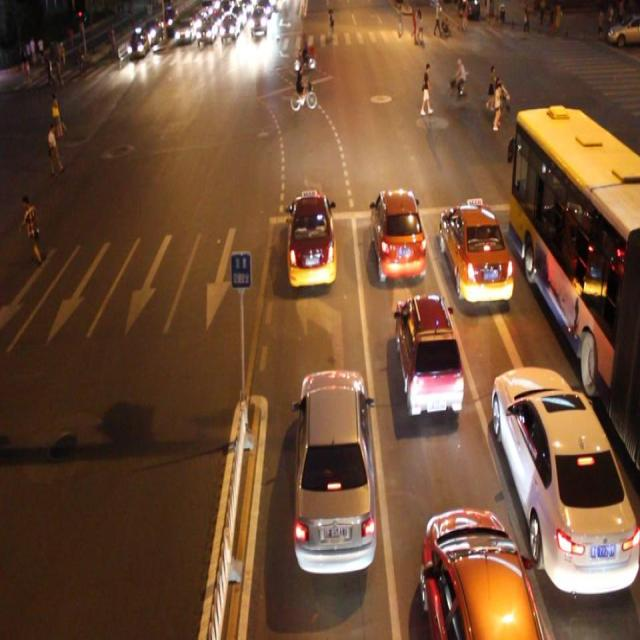car: (492, 363, 640, 591), (292, 368, 377, 572), (422, 503, 544, 640), (392, 294, 462, 412), (440, 201, 512, 307), (368, 186, 427, 282), (285, 190, 336, 289)
van: (510, 106, 640, 468)
